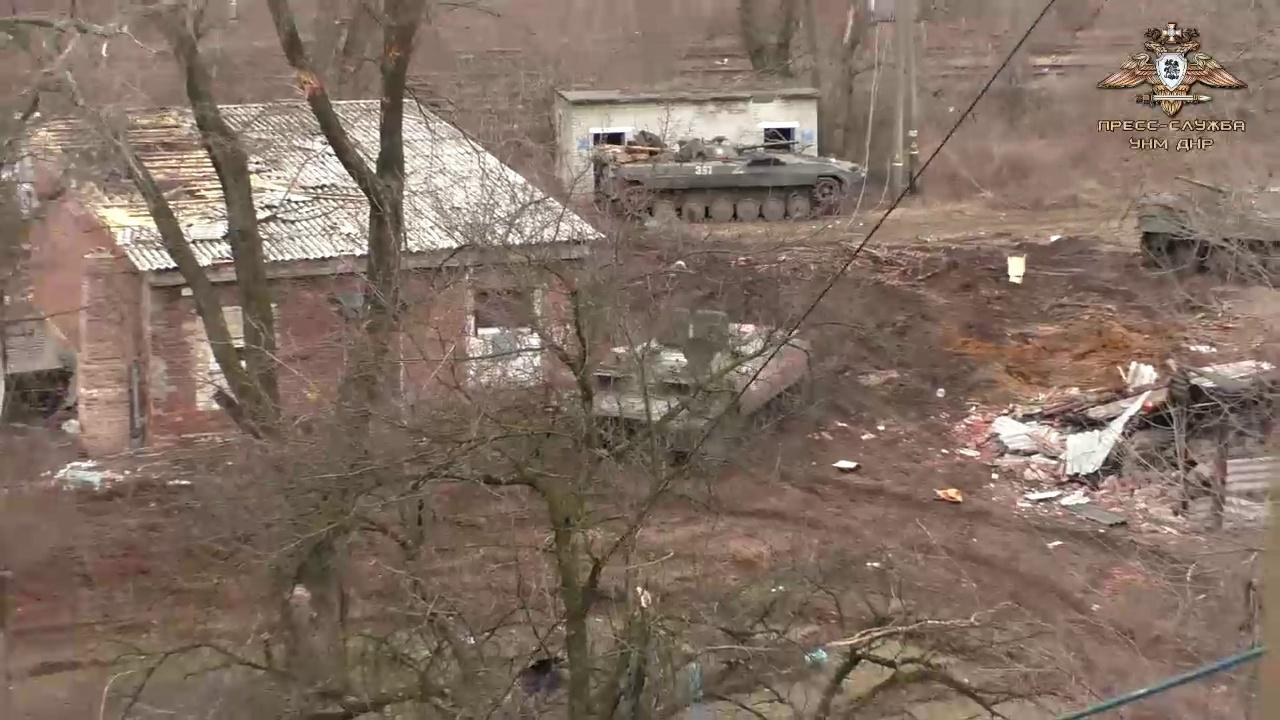tank: (566, 304, 810, 474), (593, 134, 870, 224), (1130, 164, 1280, 292)
